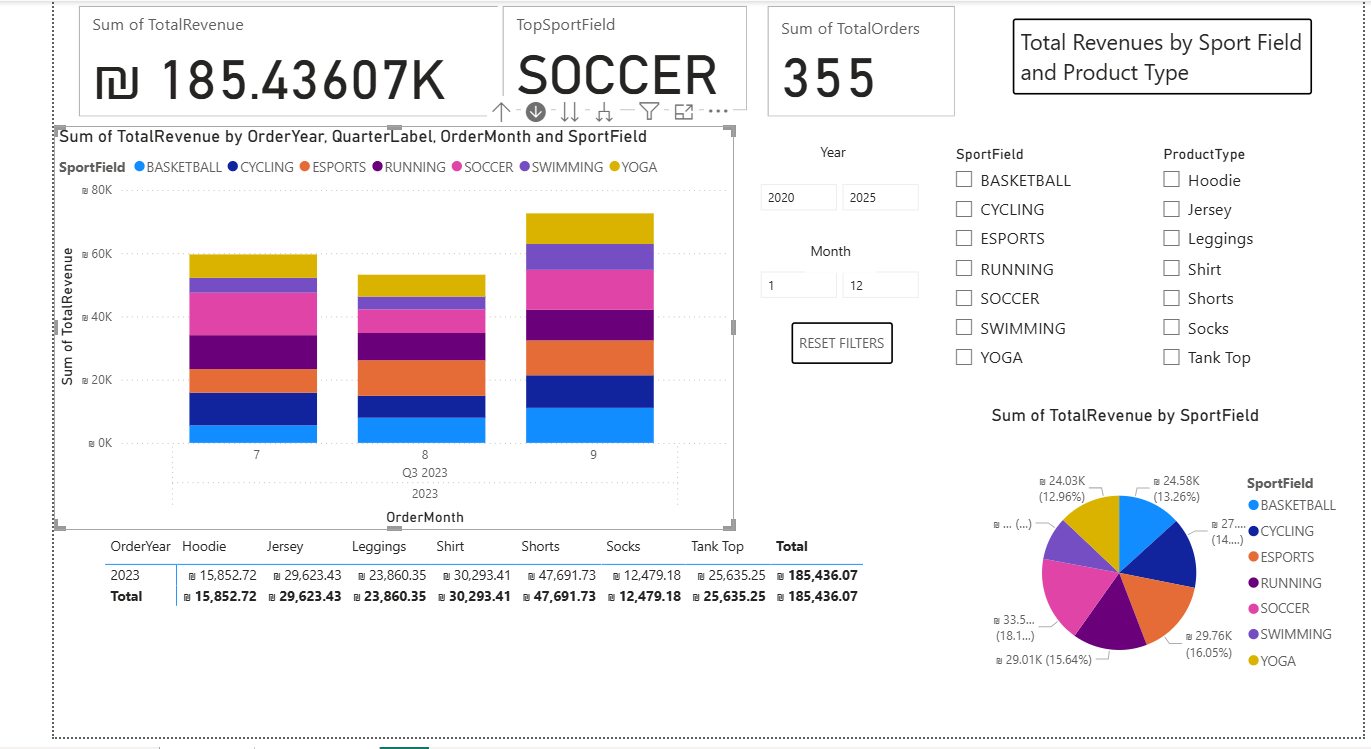

The dashboard page shown, as its layout file describes it:
{"tool":"powerbi","page":{"name":"Dashboard","canvas":[1280,720],"ordinal":1},"visuals":[{"type":"columnChart","fields":{"Y":["Sum(SportRevenue.TotalRevenue)"],"Series":["SportRevenue.SportField"],"Category":["SportRevenue.OrderYear","SportRevenue.QuarterLabel","SportRevenue.OrderMonth","SportRevenue.OrderDay"]},"box":[0,121.9,664.7,395.7],"z":0},{"type":"cardVisual","fields":{"Data":["Sum(SportRevenue.TotalRevenue)"]},"box":[19.3,0,424.7,118.2],"z":1000},{"type":"cardVisual","fields":{"Data":["SportRevenue.TopSportField"]},"box":[434.3,0,249.7,112.2],"z":2000},{"type":"cardVisual","fields":{"Data":["Sum(SportRevenue.TotalOrders)"]},"box":[693.7,0,193,118.2],"z":3000},{"type":"slicer","fields":{"Values":["SportRevenue.ProductType"]},"box":[1072.5,136.3,195.4,236.5],"z":4000},{"type":"slicer","fields":{"Values":["SportRevenue.SportField"]},"box":[869.8,136.3,193,258.2],"z":5000},{"type":"actionButton","box":[721,313.9,98.9,41],"z":6000},{"type":"textbox","box":[937.4,16.9,293.2,74.8],"z":7000},{"type":"pivotTable","fields":{"Rows":["SportRevenue.OrderYear"],"Columns":["SportRevenue.ProductType"],"Values":["Sum(SportRevenue.TotalRevenue)"]},"box":[44.6,517.6,825.2,202.7],"z":8000},{"type":"pieChart","fields":{"Category":["SportRevenue.SportField"],"Y":["Sum(SportRevenue.TotalRevenue)"]},"box":[912.1,394.5,355.9,310.1],"z":9000},{"type":"slicer","fields":{"Values":["SportRevenue.OrderYear"]},"box":[679.2,168.9,181,42.2],"z":11000},{"type":"slicer","fields":{"Values":["SportRevenue.OrderMonth"]},"box":[679.2,254.6,177.3,39.8],"z":11001},{"type":"textbox","box":[745.1,132.9,53.1,36.2],"z":11002},{"type":"textbox","box":[735.4,229.5,70,36.2],"z":11003}]}

Visuals, with their boxes in screenshot pixels (x1, y1, x2, y2), scaled from the page's 1280x720 canvas onto the 1371x749 screenshot:
columnChart - Sum(SportRevenue.TotalRevenue) x SportRevenue.SportField: {"x1": 0, "y1": 127, "x2": 712, "y2": 538}
cardVisual - Sum(SportRevenue.TotalRevenue): {"x1": 21, "y1": 0, "x2": 476, "y2": 123}
cardVisual - SportRevenue.TopSportField: {"x1": 465, "y1": 0, "x2": 733, "y2": 117}
cardVisual - Sum(SportRevenue.TotalOrders): {"x1": 743, "y1": 0, "x2": 950, "y2": 123}
slicer - SportRevenue.ProductType: {"x1": 1149, "y1": 142, "x2": 1358, "y2": 388}
slicer - SportRevenue.SportField: {"x1": 932, "y1": 142, "x2": 1138, "y2": 410}
actionButton: {"x1": 772, "y1": 327, "x2": 878, "y2": 369}
textbox: {"x1": 1004, "y1": 18, "x2": 1318, "y2": 95}
pivotTable - SportRevenue.OrderYear x SportRevenue.ProductType: {"x1": 48, "y1": 538, "x2": 932, "y2": 748}
pieChart - SportRevenue.SportField x Sum(SportRevenue.TotalRevenue): {"x1": 977, "y1": 410, "x2": 1358, "y2": 733}
slicer - SportRevenue.OrderYear: {"x1": 727, "y1": 176, "x2": 921, "y2": 220}
slicer - SportRevenue.OrderMonth: {"x1": 727, "y1": 265, "x2": 917, "y2": 306}
textbox: {"x1": 798, "y1": 138, "x2": 855, "y2": 176}
textbox: {"x1": 788, "y1": 239, "x2": 863, "y2": 276}
